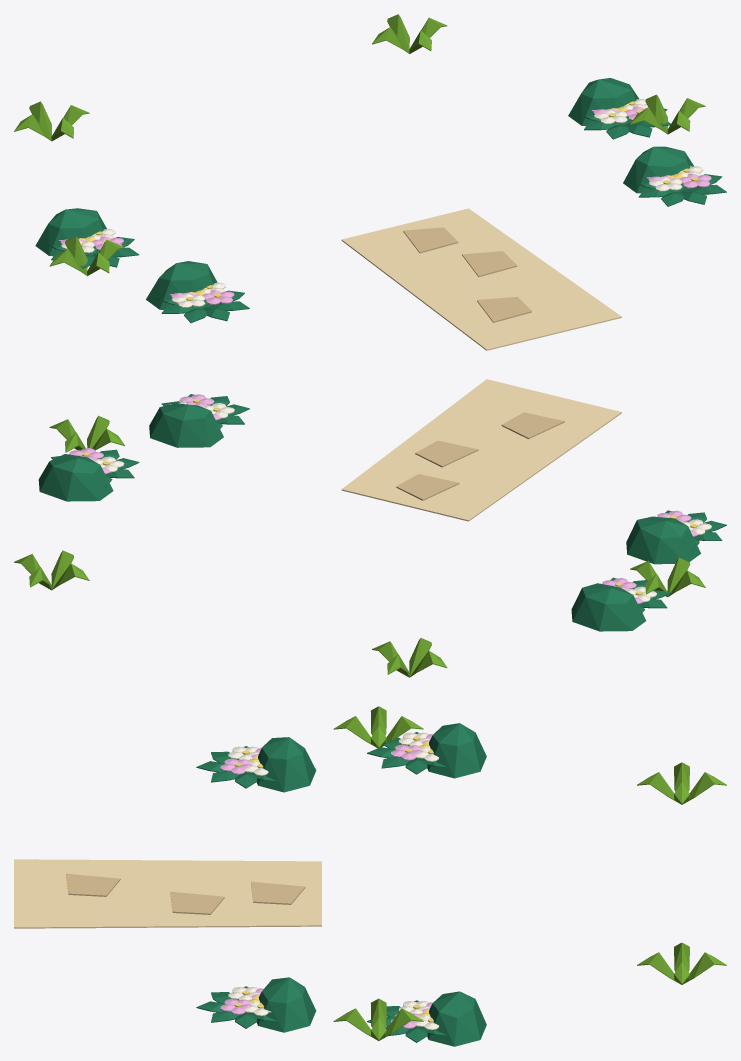
The model's file is decoration.glb.
3 views of the same model, one above another, from view 1: azimuth 30°, elevation 25°; view 2: azimuth 150°, elevation 25°; view 3: azimuth 270°, elevation 25° (orthographic). The views are drawn at different scales.
Parts seen in each view (by area): view 1: Decor_Boutique_FlowerBeds; view 2: Decor_Boutique_FlowerBeds; view 3: Decor_Boutique_FlowerBeds.
Part boxes in pixels (left/top/right/bottom): Decor_Boutique_FlowerBeds: left=14, top=14, right=726, bottom=350; Decor_Boutique_FlowerBeds: left=14, top=379, right=726, bottom=677; Decor_Boutique_FlowerBeds: left=14, top=706, right=726, bottom=1046.
Size of the model in its own units: 1.65 by 0.081 by 1.51.
